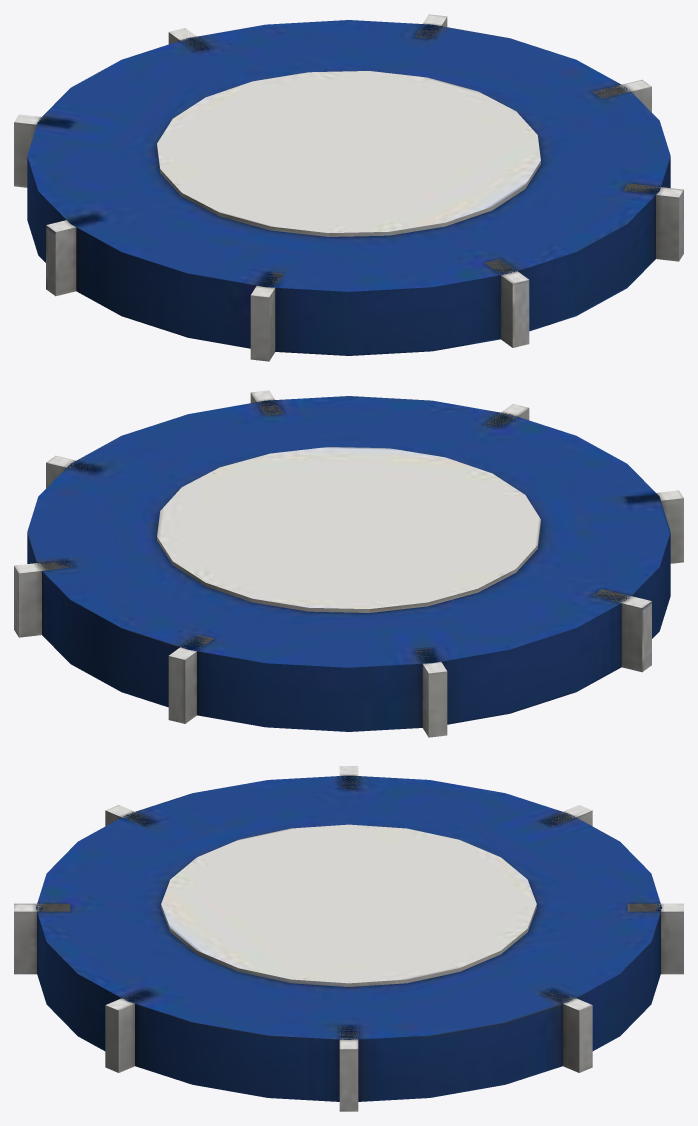
The model's file is ficha_gigante.glb.
3 renders of one model, top to bottom at view 1: azimuth 30°, elevation 25°; view 2: azimuth 150°, elevation 25°; view 3: azimuth 270°, elevation 25°, orthographic. The views are drawn at different scales.
Parts seen in each view (by area): view 1: ficha_gigante; view 2: ficha_gigante; view 3: ficha_gigante.
Part boxes in pixels (bbox=[...]): ficha_gigante: bbox=[14, 14, 683, 361]; ficha_gigante: bbox=[14, 390, 683, 737]; ficha_gigante: bbox=[14, 766, 683, 1111].
Size of the model in its own units: 1.61 by 0.175 by 1.61.
1 material, 1 textured.
